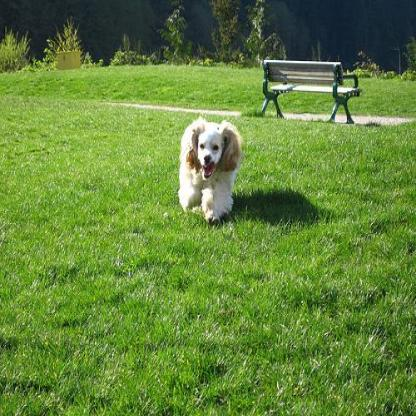cocker_spaniel: (177, 113, 239, 220)
